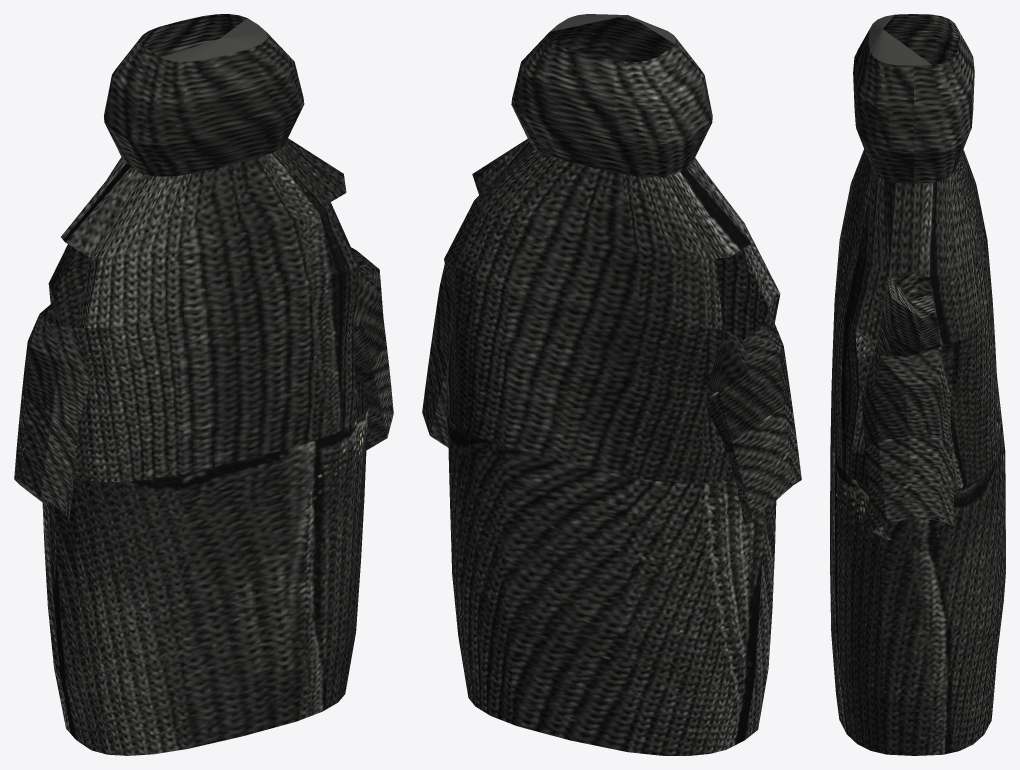
Rendered from prueba-blender.glb.
The picture shows the model from 3 angles, left to right: view 1: azimuth 30°, elevation 25°; view 2: azimuth 150°, elevation 25°; view 3: azimuth 270°, elevation 25°; orthographic projection. The views are drawn at different scales.
Visible parts, largest first — view 1: prenda; view 2: prenda; view 3: prenda.
Part boxes in pixels (x1,y1,x2,y2): prenda: (14,14,393,755); prenda: (422,14,801,755); prenda: (830,14,1005,755).
Size of the model in its own units: 0.6747 by 1.22 by 0.2931.
1 material, 1 textured.
